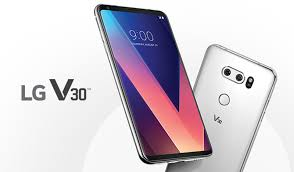lg: (91, 1, 217, 168)
